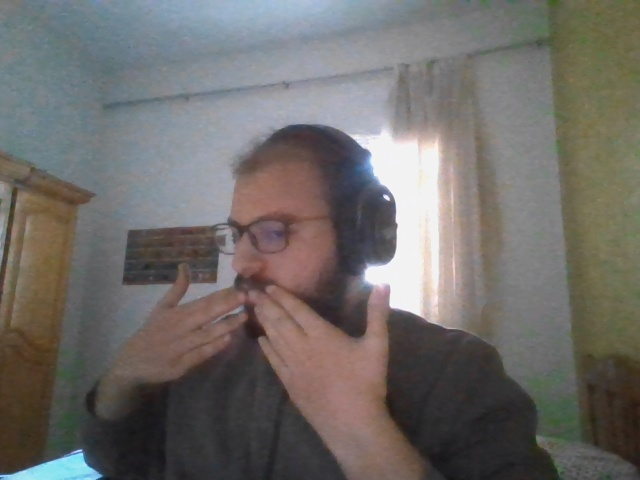Thank You: (129, 263, 392, 425)
